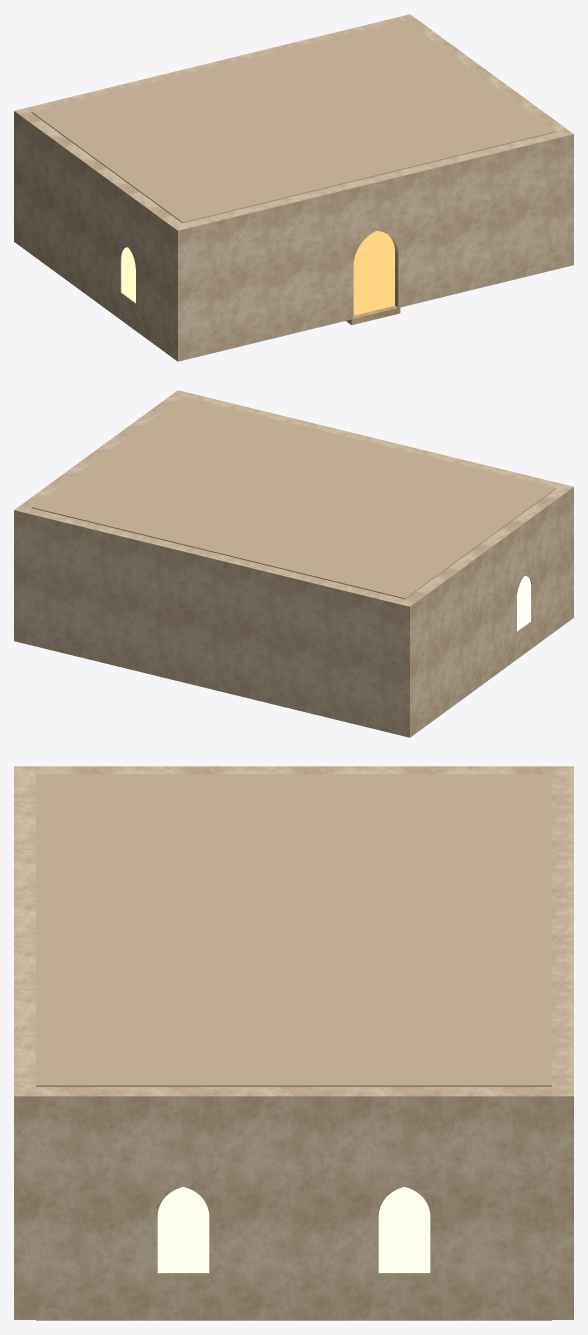
File: station_ivory.glb
The picture shows the model from 3 angles, top to bottom: view 1: azimuth 30°, elevation 25°; view 2: azimuth 150°, elevation 25°; view 3: azimuth 270°, elevation 25°; orthographic projection. The views are drawn at different scales.
Parts seen in each view (by area): view 1: ivory_Static, Portal_exit, Window_Glow; view 2: ivory_Static, Window_Glow; view 3: ivory_Static, Window_Glow.
Boxes of the visible parts, x1,y1,x2,y2 form: ivory_Static: [14, 14, 573, 361]; Portal_exit: [353, 231, 394, 315]; Window_Glow: [121, 247, 135, 302]; ivory_Static: [14, 390, 573, 737]; Window_Glow: [517, 576, 531, 631]; ivory_Static: [14, 766, 573, 1320]; Window_Glow: [157, 1187, 430, 1272].
Size of the model in its own units: 21.2 by 7.05 by 15.2.
24 materials, 9 textured.
